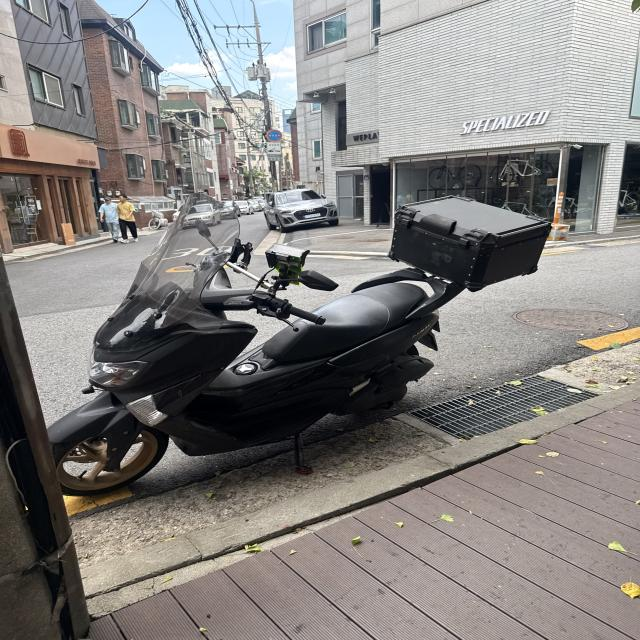motorcycle: (17, 161, 548, 521)
